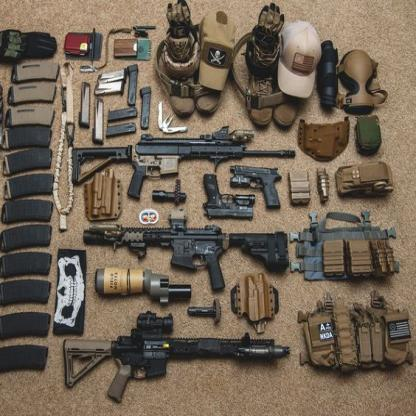Grenade: (93, 263, 193, 306)
Gun: (63, 309, 289, 405), (81, 208, 289, 292), (70, 124, 296, 200)
Pistol: (201, 170, 256, 221), (228, 162, 282, 212)
